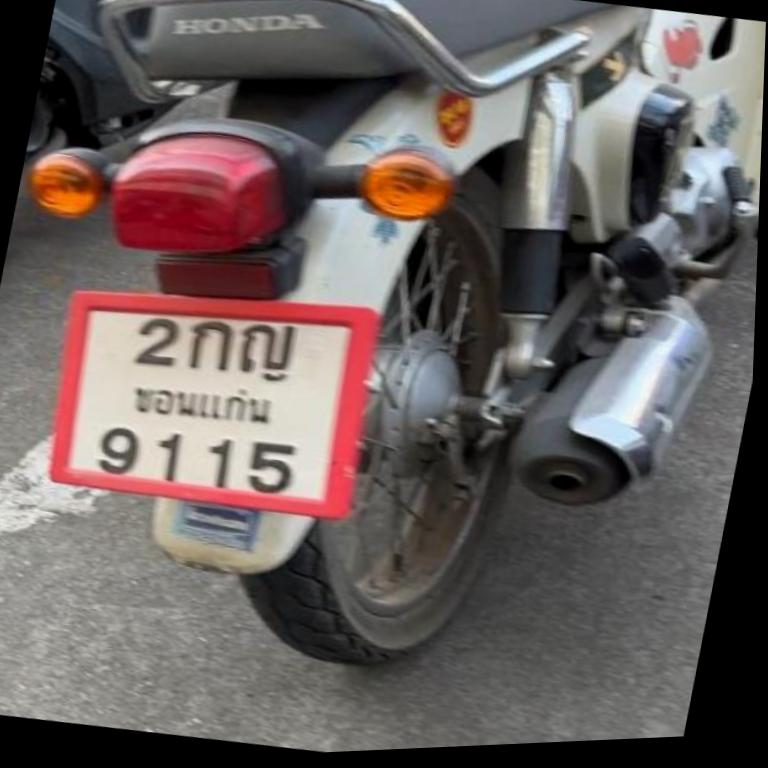license plate: (52, 293, 376, 518)
